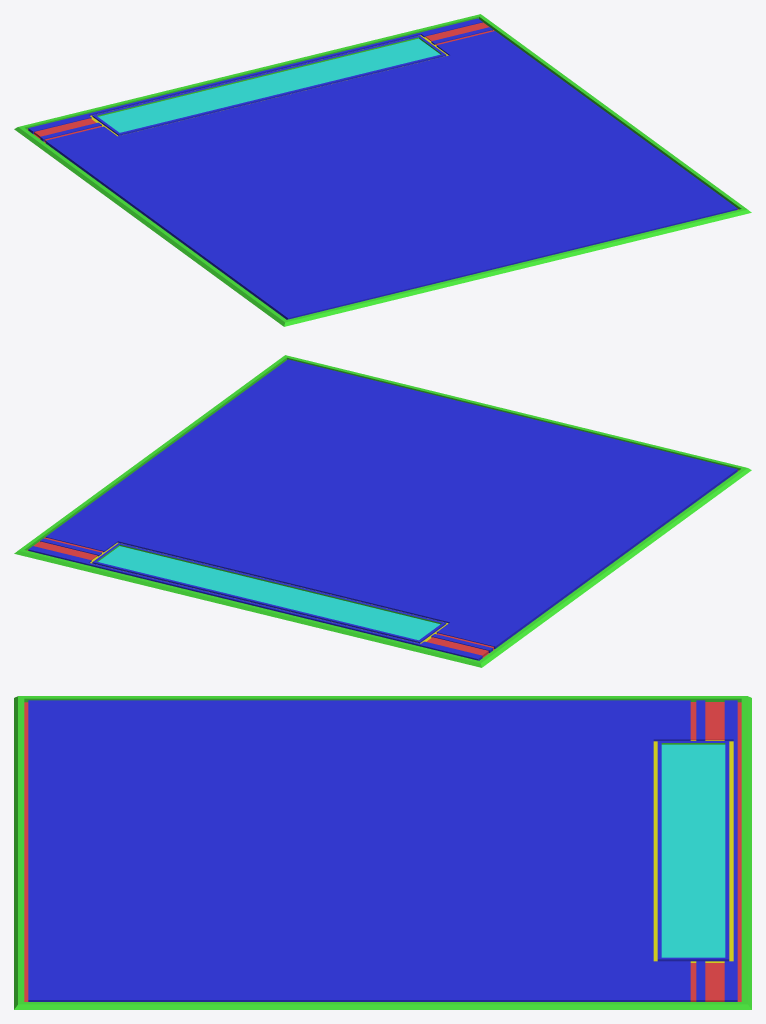
Rendered from Floor_11_G_Side_A.fbx.
3 views of the same model, one above another, from view 1: azimuth 30°, elevation 25°; view 2: azimuth 150°, elevation 25°; view 3: azimuth 270°, elevation 25° (orthographic). The views are drawn at different scales.
Parts seen in each view (by area): view 1: Floor_11_G_Side_A; view 2: Floor_11_G_Side_A; view 3: Floor_11_G_Side_A.
Part boxes in pixels (x1=…): Floor_11_G_Side_A: x1=14, y1=14, x2=751, y2=326; Floor_11_G_Side_A: x1=14, y1=355, x2=751, y2=667; Floor_11_G_Side_A: x1=14, y1=696, x2=751, y2=1009.
Bounding box in the file's own units: 457 × 2.54 × 457.
